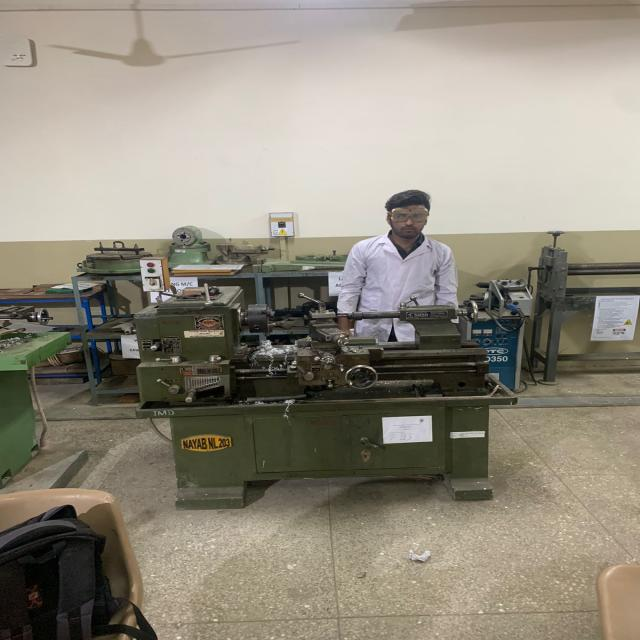googles: (383, 203, 431, 224)
labcoat: (336, 226, 460, 344)
